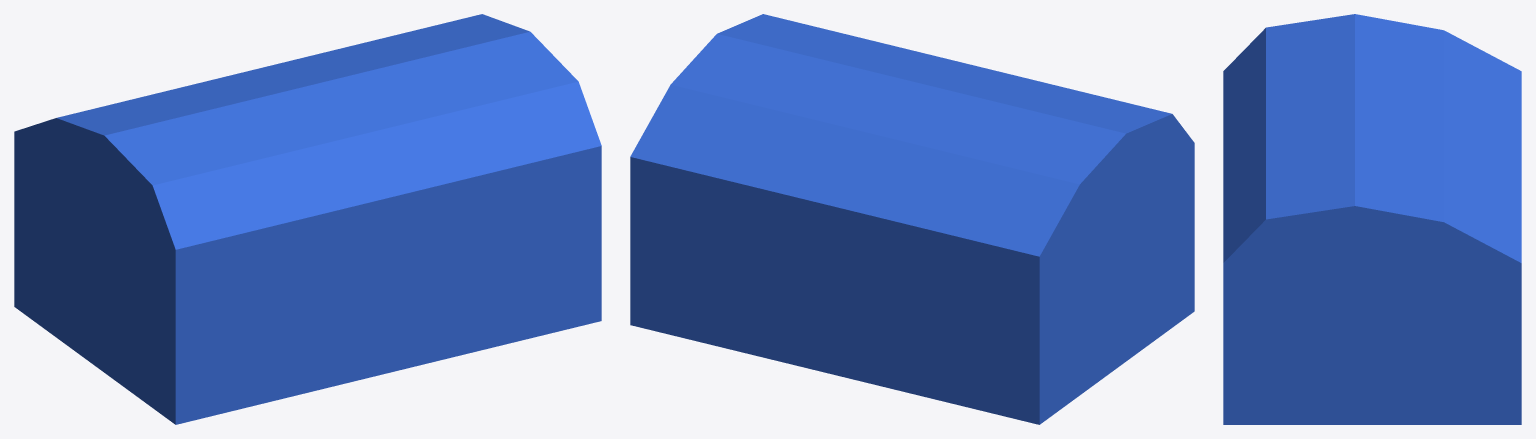
Rendered from Collision_FarmCrate_Radish.fbx.
3 renders of one model, left to right at view 1: azimuth 30°, elevation 25°; view 2: azimuth 150°, elevation 25°; view 3: azimuth 270°, elevation 25°, orthographic. The views are drawn at different scales.
Parts seen in each view (by area): view 1: UCX_FarmCrate_Radish_1; view 2: UCX_FarmCrate_Radish_1; view 3: UCX_FarmCrate_Radish_1.
Part boxes in pixels (x1,y1,x2,y2): UCX_FarmCrate_Radish_1: (14, 14, 601, 424); UCX_FarmCrate_Radish_1: (630, 14, 1194, 424); UCX_FarmCrate_Radish_1: (1223, 14, 1521, 424).
Size of the model in its own units: 62.21 by 33.09 by 40.86.
